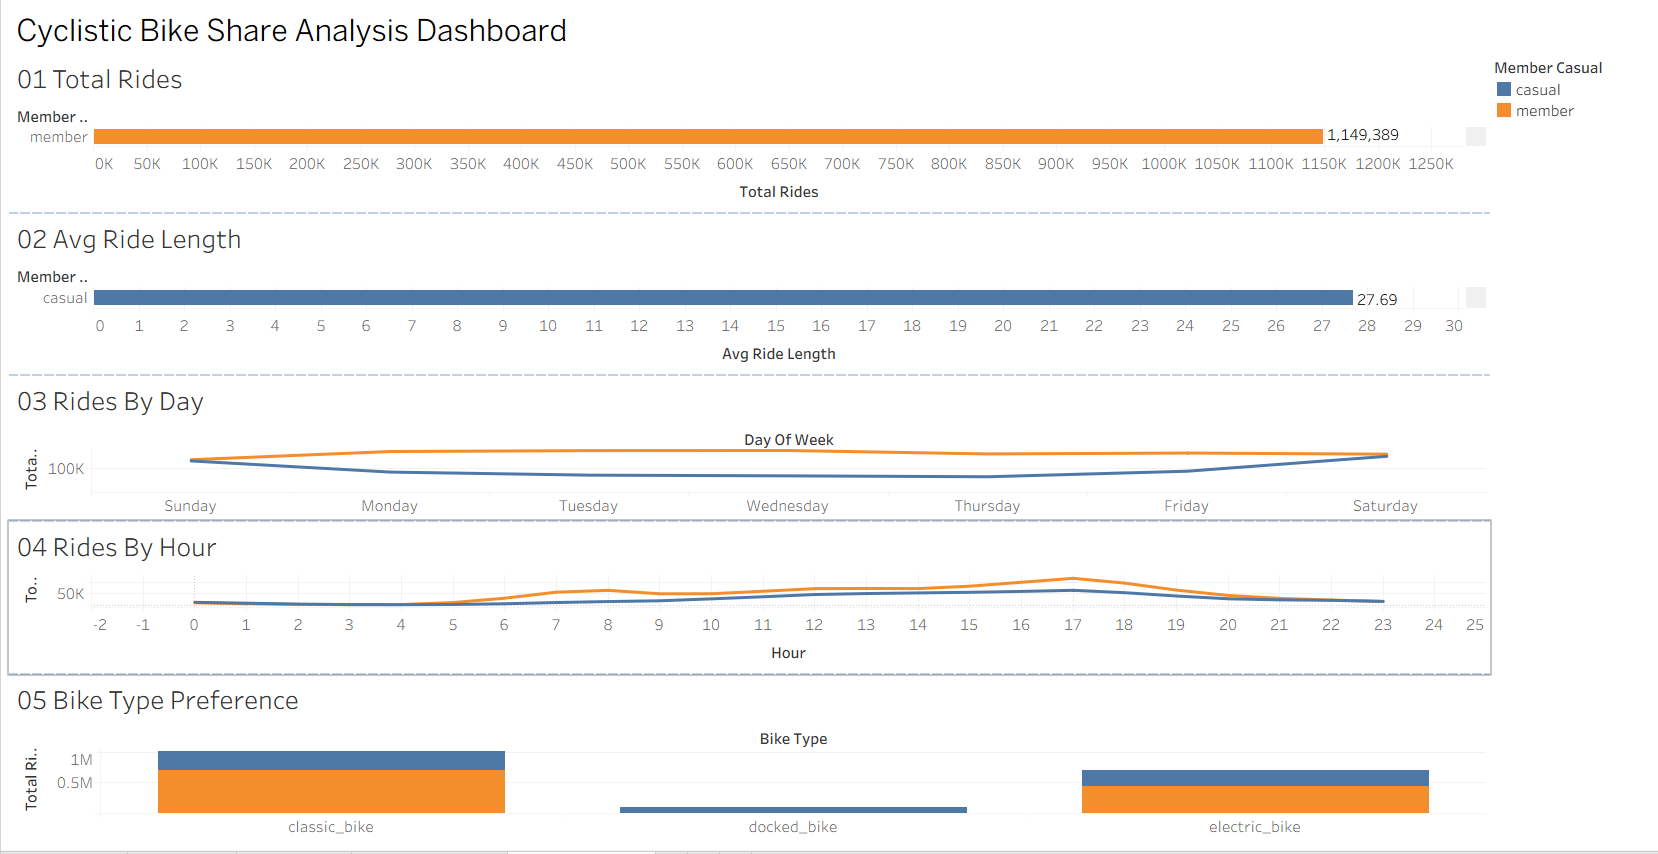

The dashboard page shown, as its layout file describes it:
{"tool":"tableau","page":{"name":"Cyclistic Dashboard","canvas":[1000,1000],"units":"permille","ordinal":0},"visuals":[{"type":"title","box":[4.8,9.1,990.3,52.2]},{"type":"worksheet","title":"01 Total Rides","mark":"Automatic","rows":["member_casual"],"cols":["total_rides"],"box":[4.8,61.3,893.8,188.4]},{"type":"legend","title":"05 Bike Type Preference","param":"[federated.0q2fwkg1xpzn4j10pplhd1xeiydg].[none:member_casual:nk]","box":[898.6,61.3,96.6,81.7]},{"type":"worksheet","title":"02 Avg Ride Length","mark":"Automatic","rows":["member_casual"],"cols":["avg_ride_length"],"box":[4.8,249.7,893.8,191]},{"type":"worksheet","title":"03 Rides By Day","mark":"Line","rows":["total_rides"],"cols":["day_of_week"],"box":[4.8,440.7,893.8,171.9]},{"type":"worksheet","title":"04 Rides By Hour","mark":"Line","rows":["total_rides"],"cols":["hour"],"box":[4.8,612.6,893.8,179.8]},{"type":"worksheet","title":"05 Bike Type Preference","mark":"Automatic","rows":["total_rides"],"cols":["rideable_type"],"box":[4.8,792.5,893.8,198.5]}]}

Visuals, with their boxes on the dashboard's canvas, which has no fixed pixel size, in thousandths of its width and height (x1, y1, x2, y2). These are canvas units, not pixel positions in the 1658x854 screenshot, which may show the page scaled, cropped or inside an application window:
title: [left=5, top=9, right=995, bottom=61]
"01 Total Rides" worksheet: [left=5, top=61, right=899, bottom=250]
"05 Bike Type Preference" legend: [left=899, top=61, right=995, bottom=143]
"02 Avg Ride Length" worksheet: [left=5, top=250, right=899, bottom=441]
"03 Rides By Day" worksheet (Line marks): [left=5, top=441, right=899, bottom=613]
"04 Rides By Hour" worksheet (Line marks): [left=5, top=613, right=899, bottom=792]
"05 Bike Type Preference" worksheet: [left=5, top=792, right=899, bottom=991]
